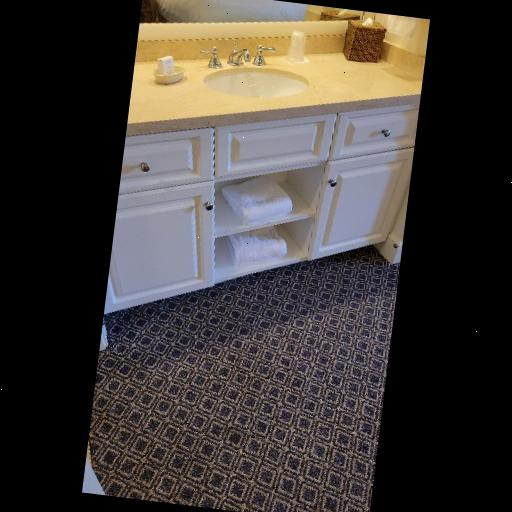clean_floor: (89, 244, 398, 512)
clean_sink: (106, 14, 423, 314)
folded_towel: (221, 176, 294, 227)
